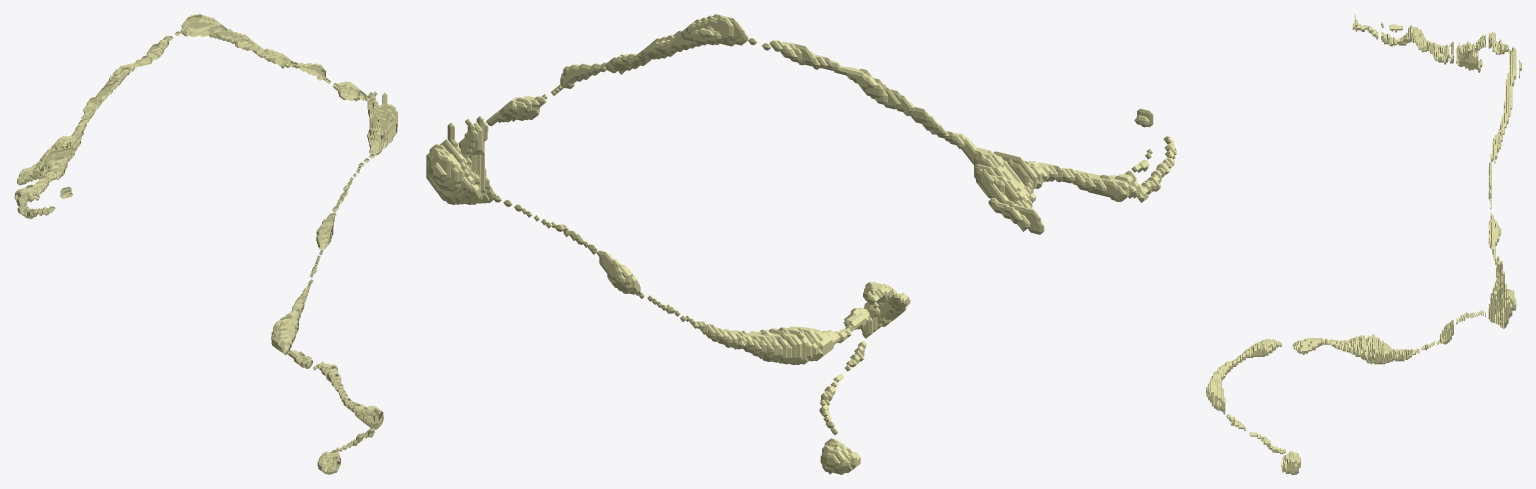
File: SVV_SAAVL.gltf
3 views of the same model, side by side, from view 1: azimuth 30°, elevation 25°; view 2: azimuth 150°, elevation 25°; view 3: azimuth 270°, elevation 25° (orthographic). The views are drawn at different scales.
Visible parts, largest first — view 1: SAAVL; view 2: SAAVL; view 3: SAAVL.
Boxes of the visible parts, x1,y1,x2,y2 form: SAAVL: [14, 14, 397, 474]; SAAVL: [426, 14, 1177, 474]; SAAVL: [1206, 14, 1521, 474].
Bounding box in the file's own units: 106551 × 91716 × 64285.
